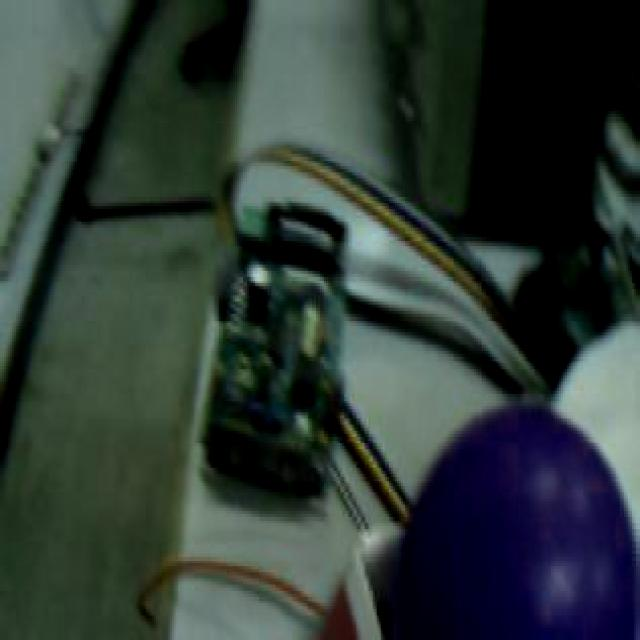BallPurple: (399, 397, 636, 640)
